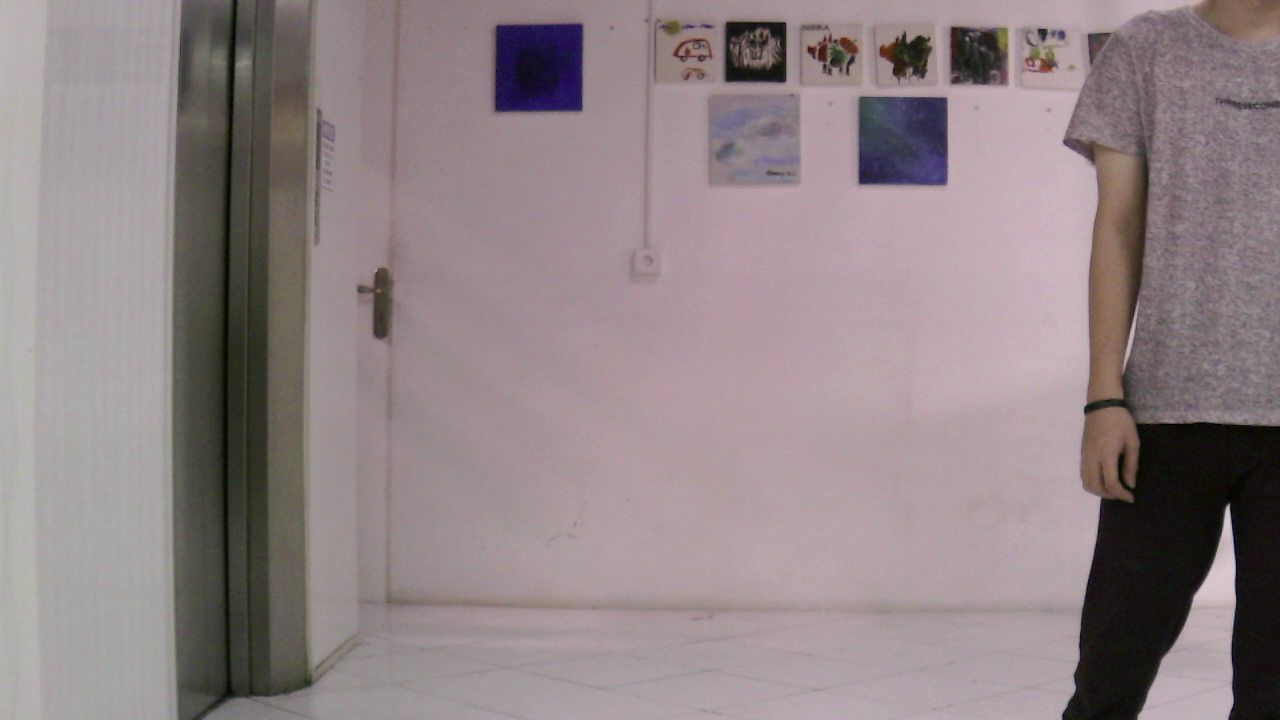bg: (1, 4, 1212, 720)
